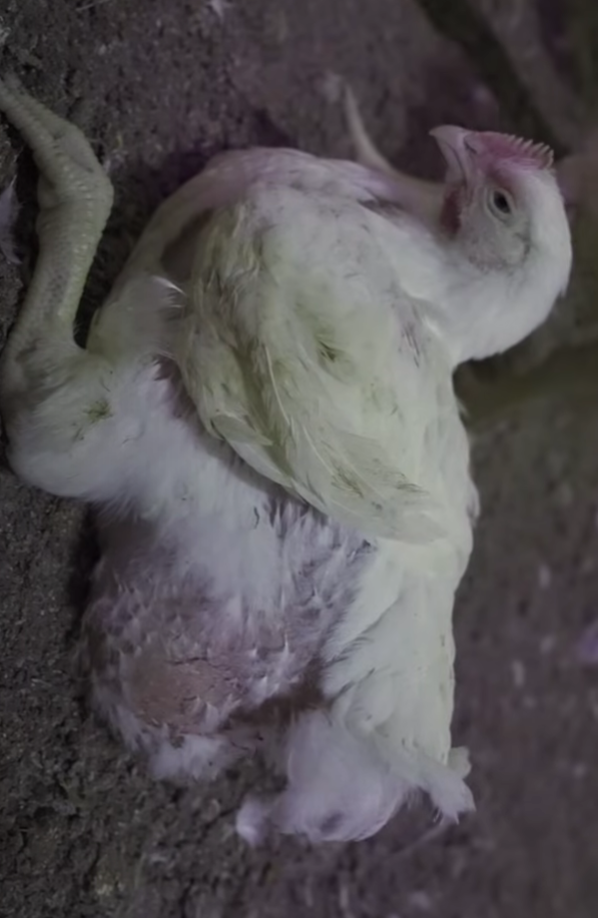Unhealthy: (1, 51, 580, 875)
